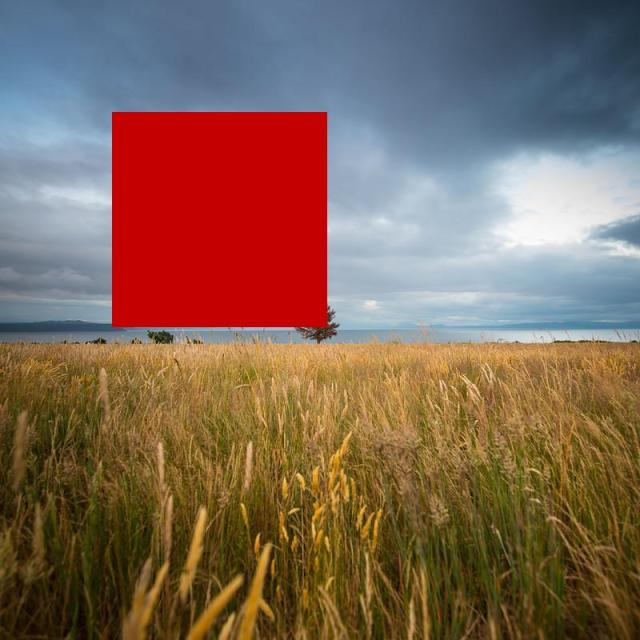RedSquare: (104, 104, 340, 333)
